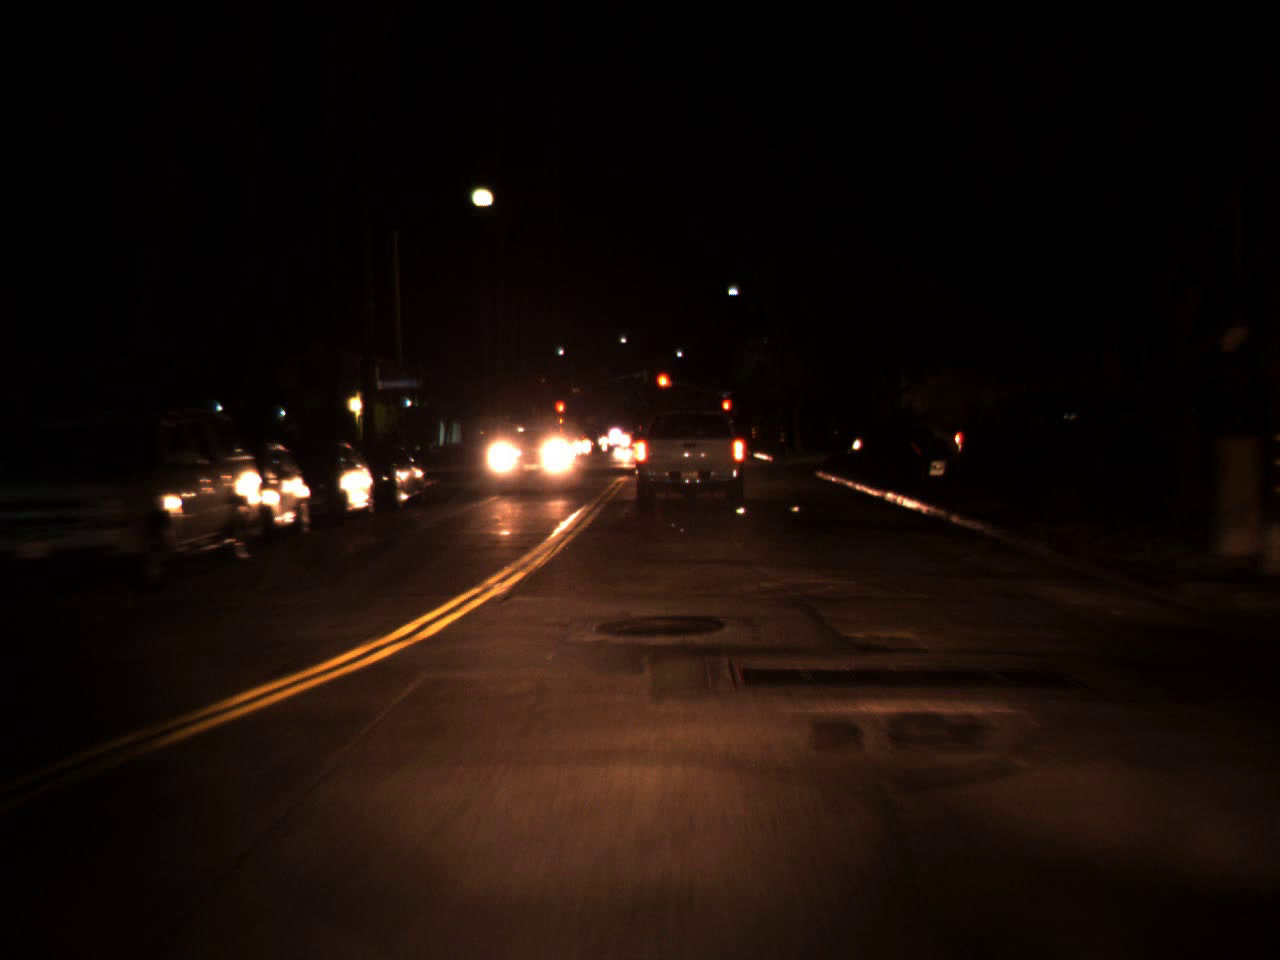stop: (655, 372, 673, 401), (554, 399, 566, 426), (721, 398, 731, 422)
